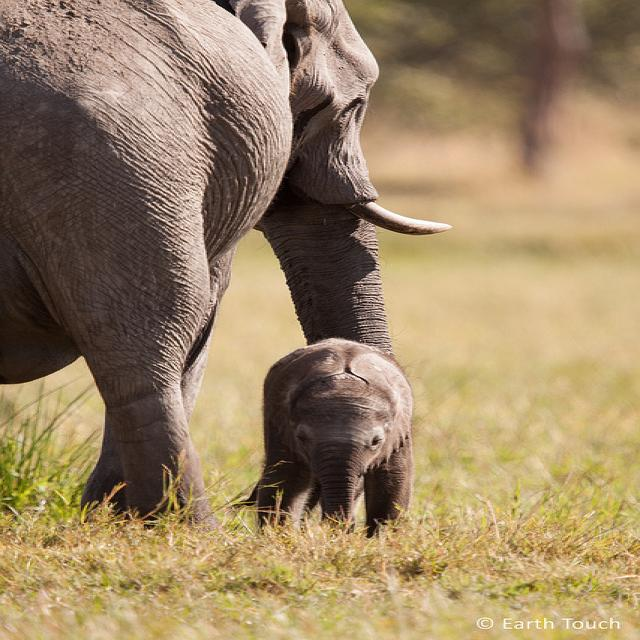Elephant: (0, 0, 453, 534), (246, 336, 414, 539)
